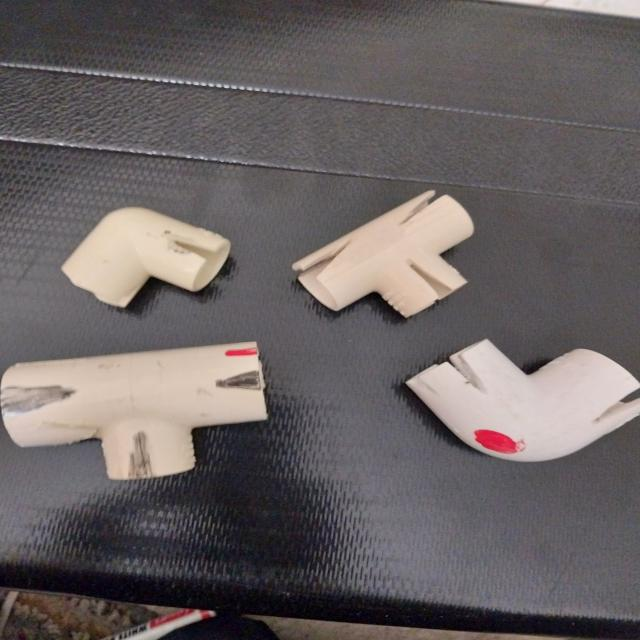Defective: (398, 253, 453, 300), (577, 387, 640, 424), (151, 237, 217, 271), (3, 385, 76, 412), (203, 370, 266, 399), (449, 353, 493, 393), (300, 249, 353, 274), (472, 429, 520, 455), (133, 434, 156, 479), (408, 195, 443, 223), (224, 348, 254, 358)
L Joint: (403, 339, 640, 466), (60, 206, 233, 306)
T Joint: (2, 341, 272, 480), (290, 186, 482, 317), (490, 2, 640, 26)
